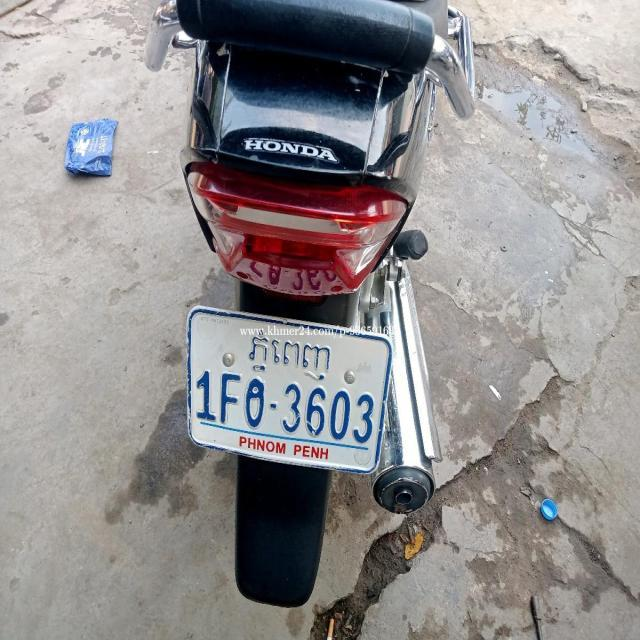Phnom_Penh: (249, 328, 331, 381)
